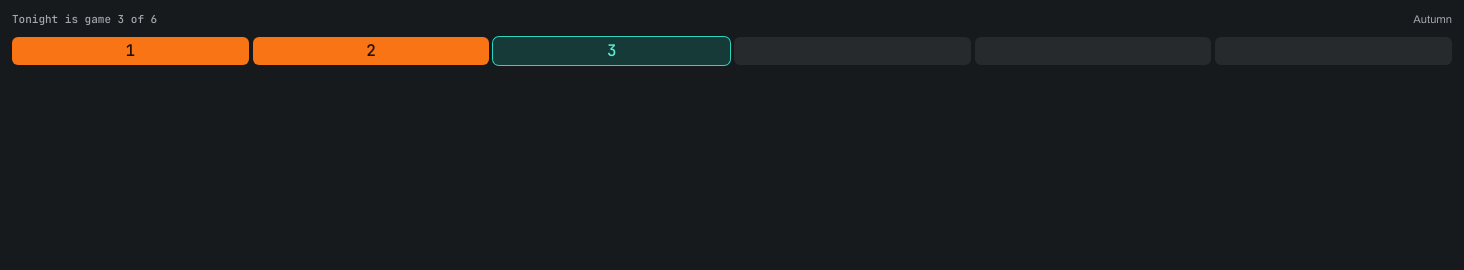
Test: the season game bar › tapping the open game again closes it
Click the button named "Game 1" at (130, 51), box [12,37,249,65]
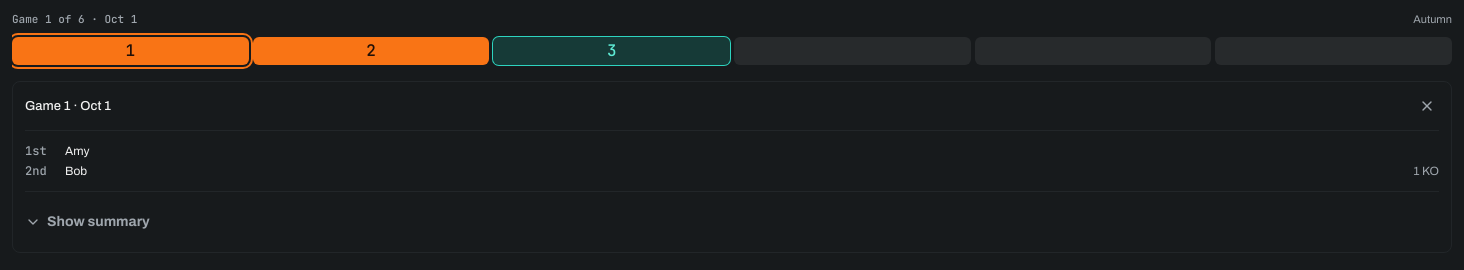
Expected: the text "1 KO" is shown, [1413,163,1439,179]
Click the button named "Game 1" at (130, 51), box [12,37,249,65]
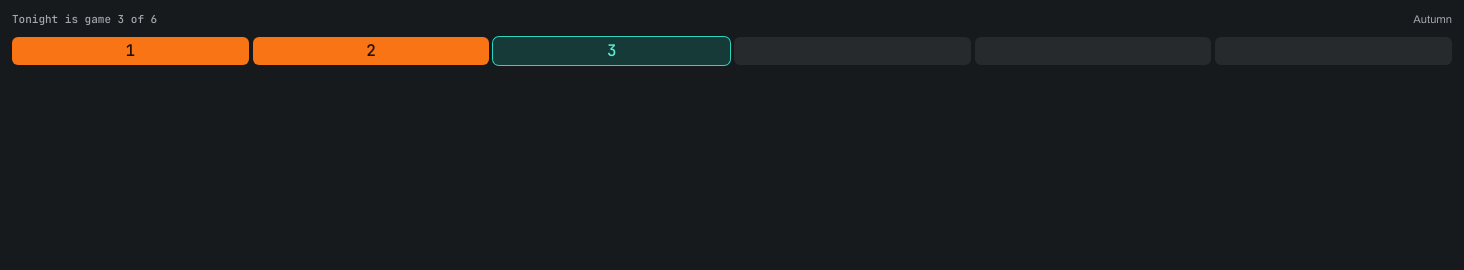
Expected: the text "1 KO" is gone
